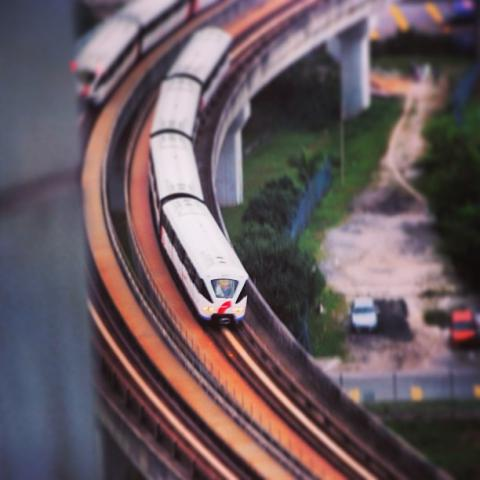car: (448, 306, 479, 350), (350, 293, 379, 330)
